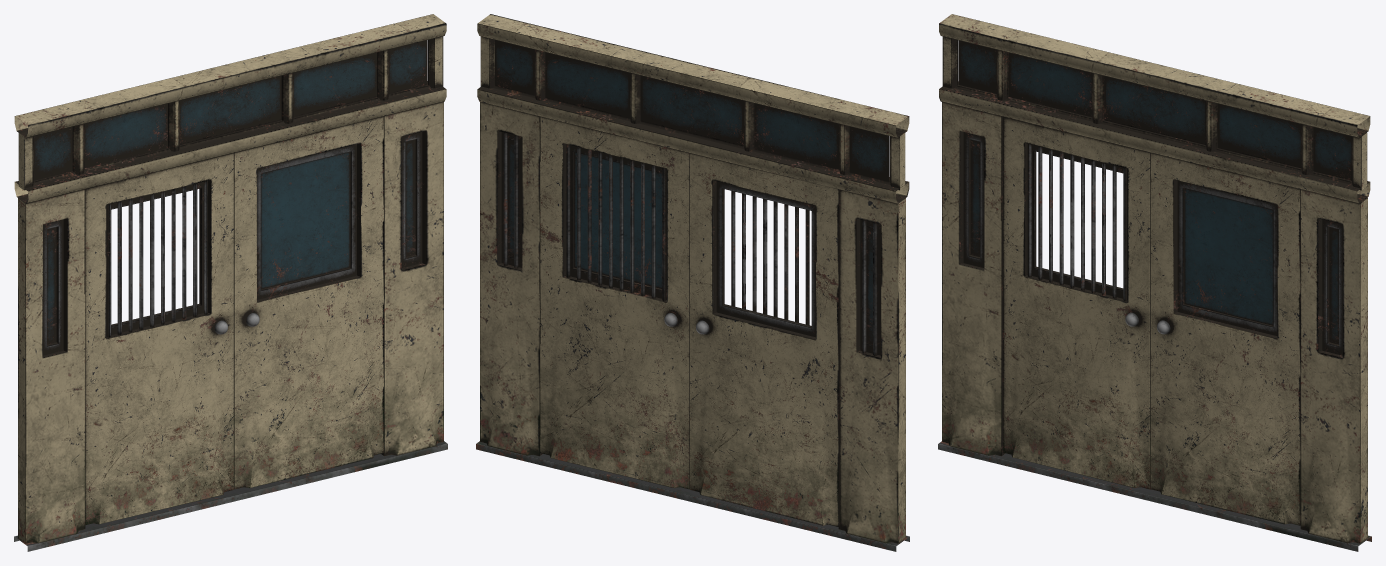
Rendered from double_wooden_door.glb.
3 views of the same model, side by side, from view 1: azimuth 30°, elevation 25°; view 2: azimuth 150°, elevation 25°; view 3: azimuth 330°, elevation 25° (orthographic).
Parts seen in each view (by area): view 1: Symmetry_1; view 2: Symmetry_1; view 3: Symmetry_1.
Part boxes in pixels (<box>): Symmetry_1: <box>14,14,447,551</box>; Symmetry_1: <box>476,14,909,551</box>; Symmetry_1: <box>938,14,1371,551</box>.
Bounding box in the file's own units: 0.6072 × 0.5881 × 0.049.
1 material, 1 textured.
